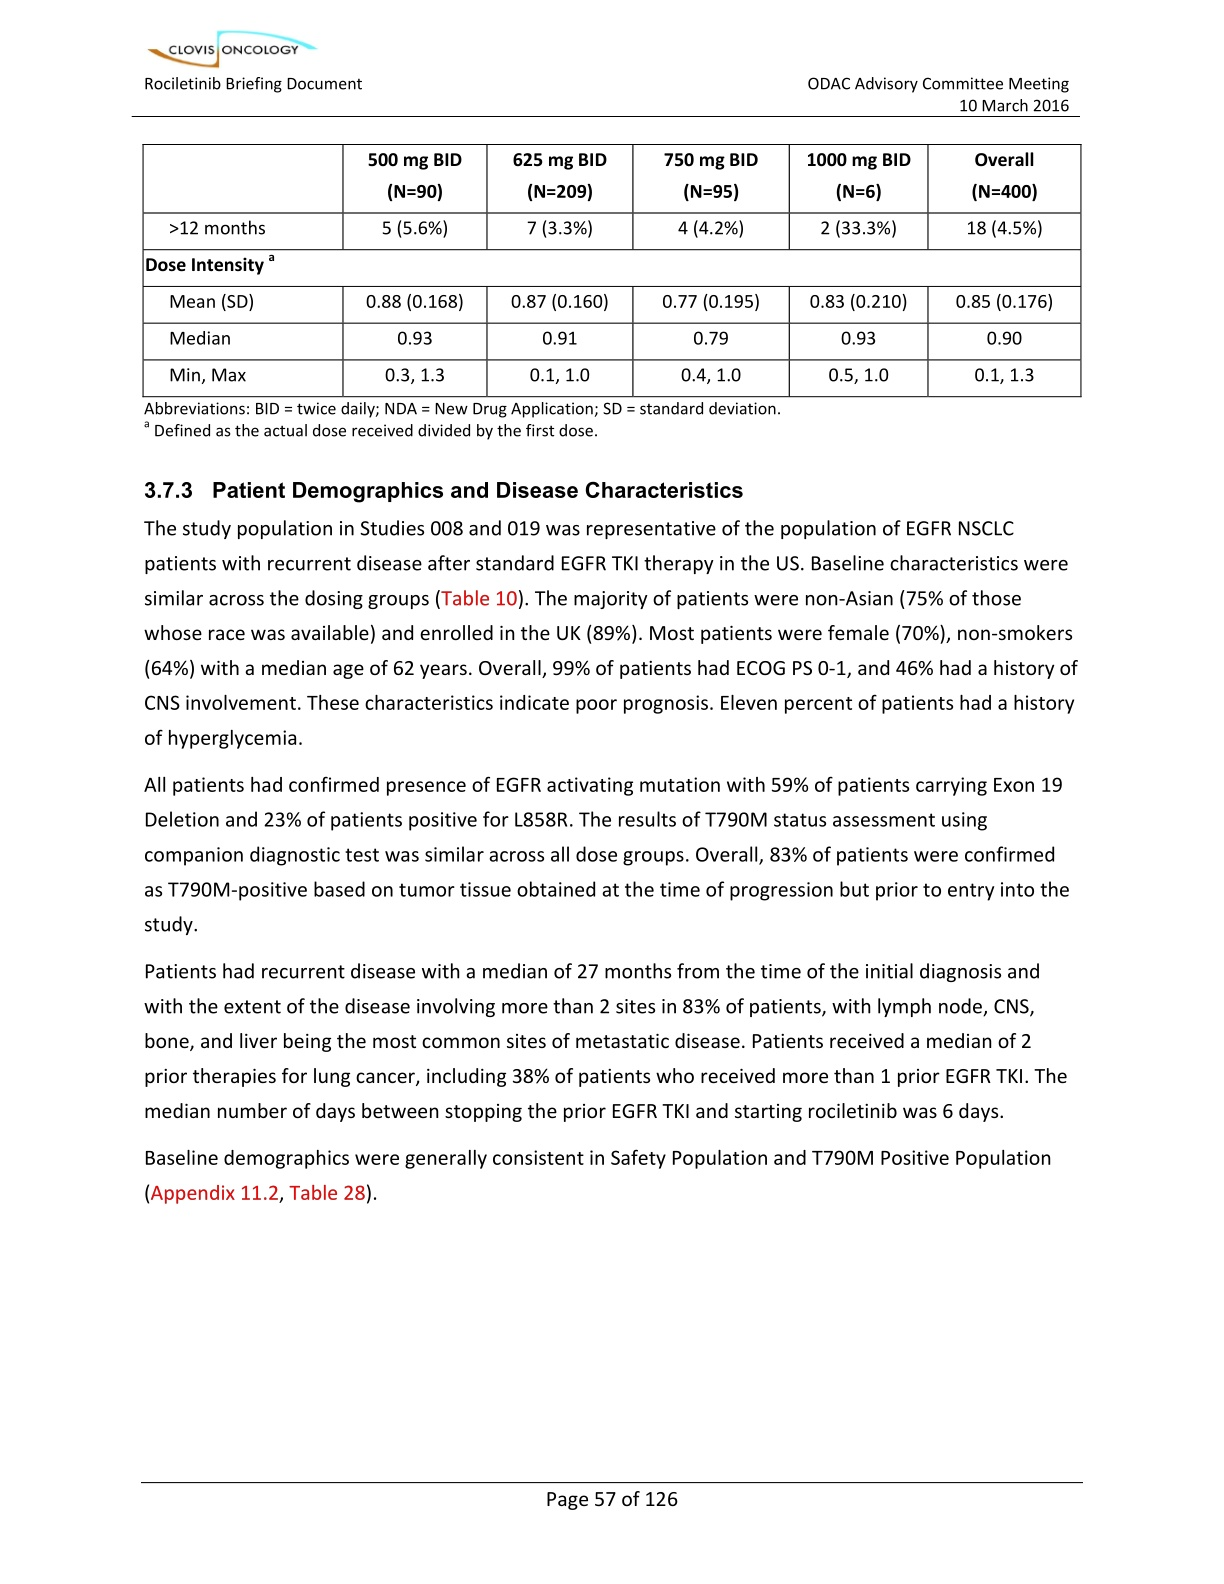merged_cells: (141, 143, 1083, 397)
